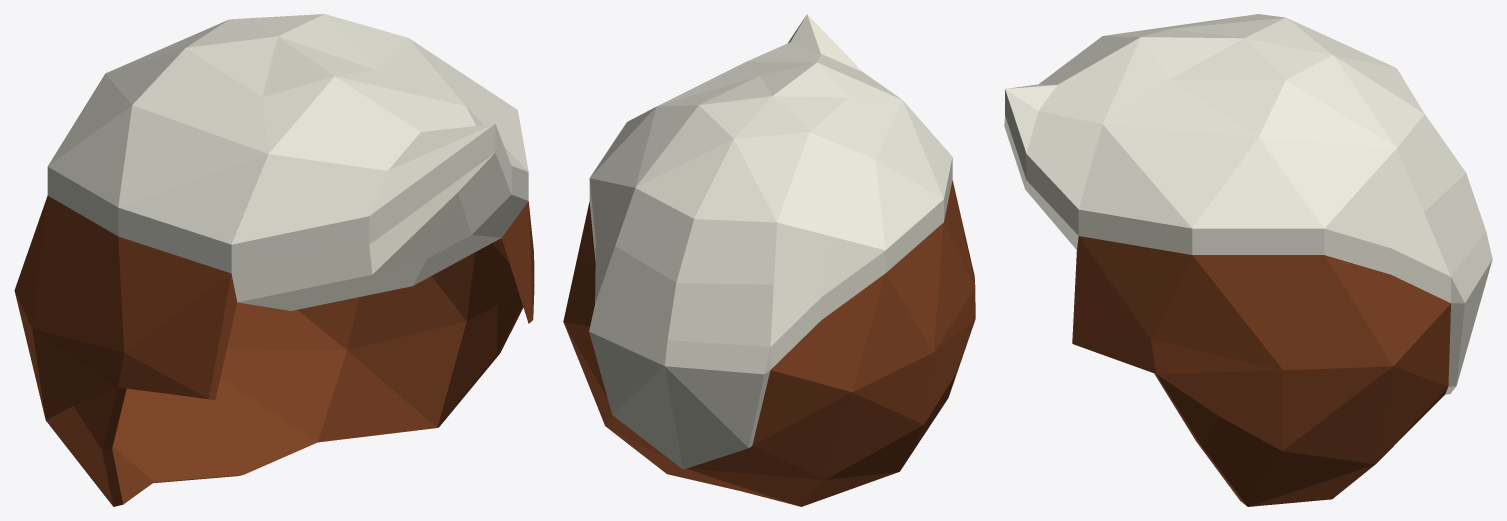
The model's file is HairCut3.fbx.
3 views of the same model, side by side, from view 1: azimuth 30°, elevation 25°; view 2: azimuth 150°, elevation 25°; view 3: azimuth 270°, elevation 25° (orthographic). The views are drawn at different scales.
Parts seen in each view (by area): view 1: characterBase.001; view 2: characterBase.001; view 3: characterBase.001.
Part boxes in pixels (box(x1,y1,x2,y2)): characterBase.001: box(14, 14, 534, 506); characterBase.001: box(563, 14, 975, 506); characterBase.001: box(1004, 14, 1492, 506).
Bounding box in the file's own units: 61.5 × 61.5 × 63.23.
